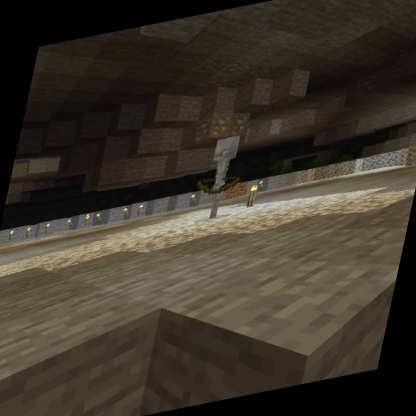skeleton: (185, 128, 254, 226)
